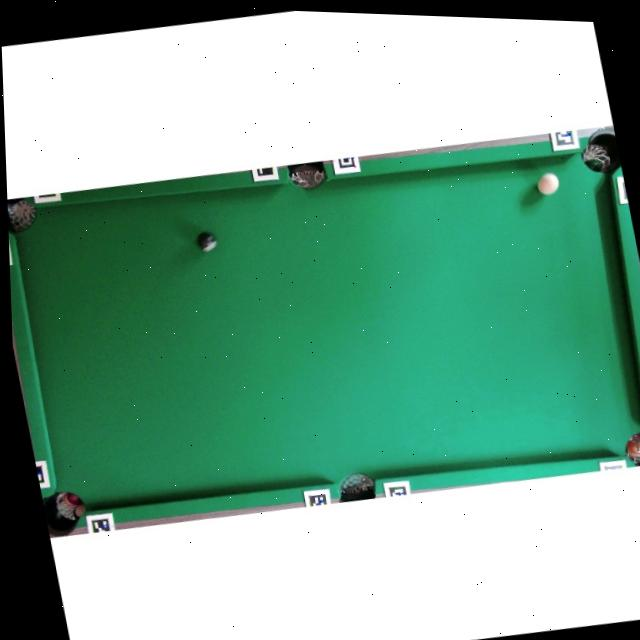cue ball: (535, 171, 563, 198)
other: (195, 229, 219, 253)
